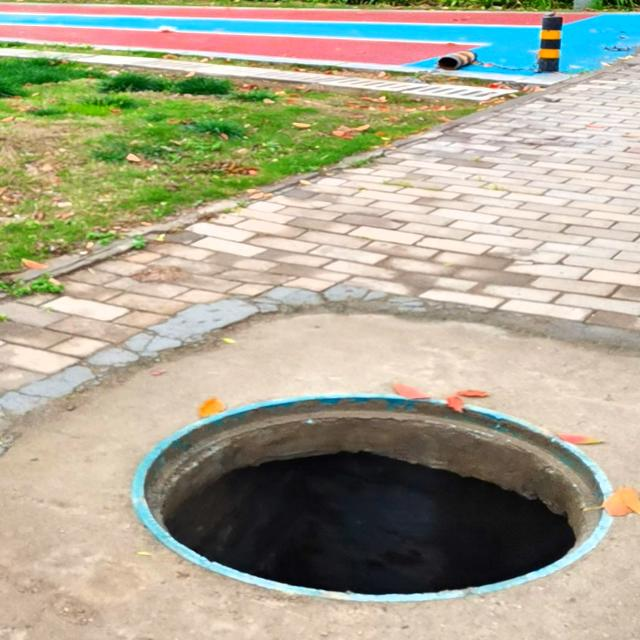lose: (131, 389, 611, 600)
